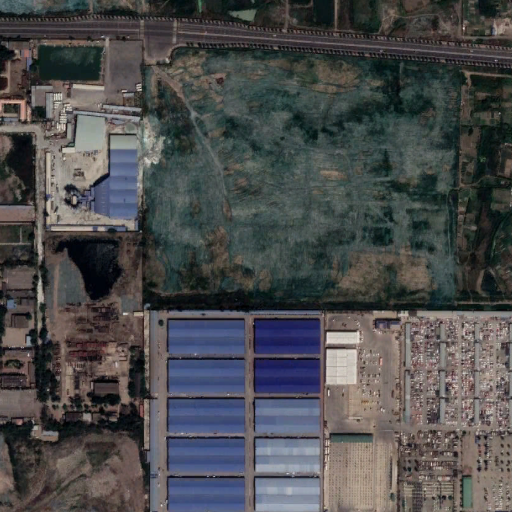cw: (137, 44, 462, 303)
